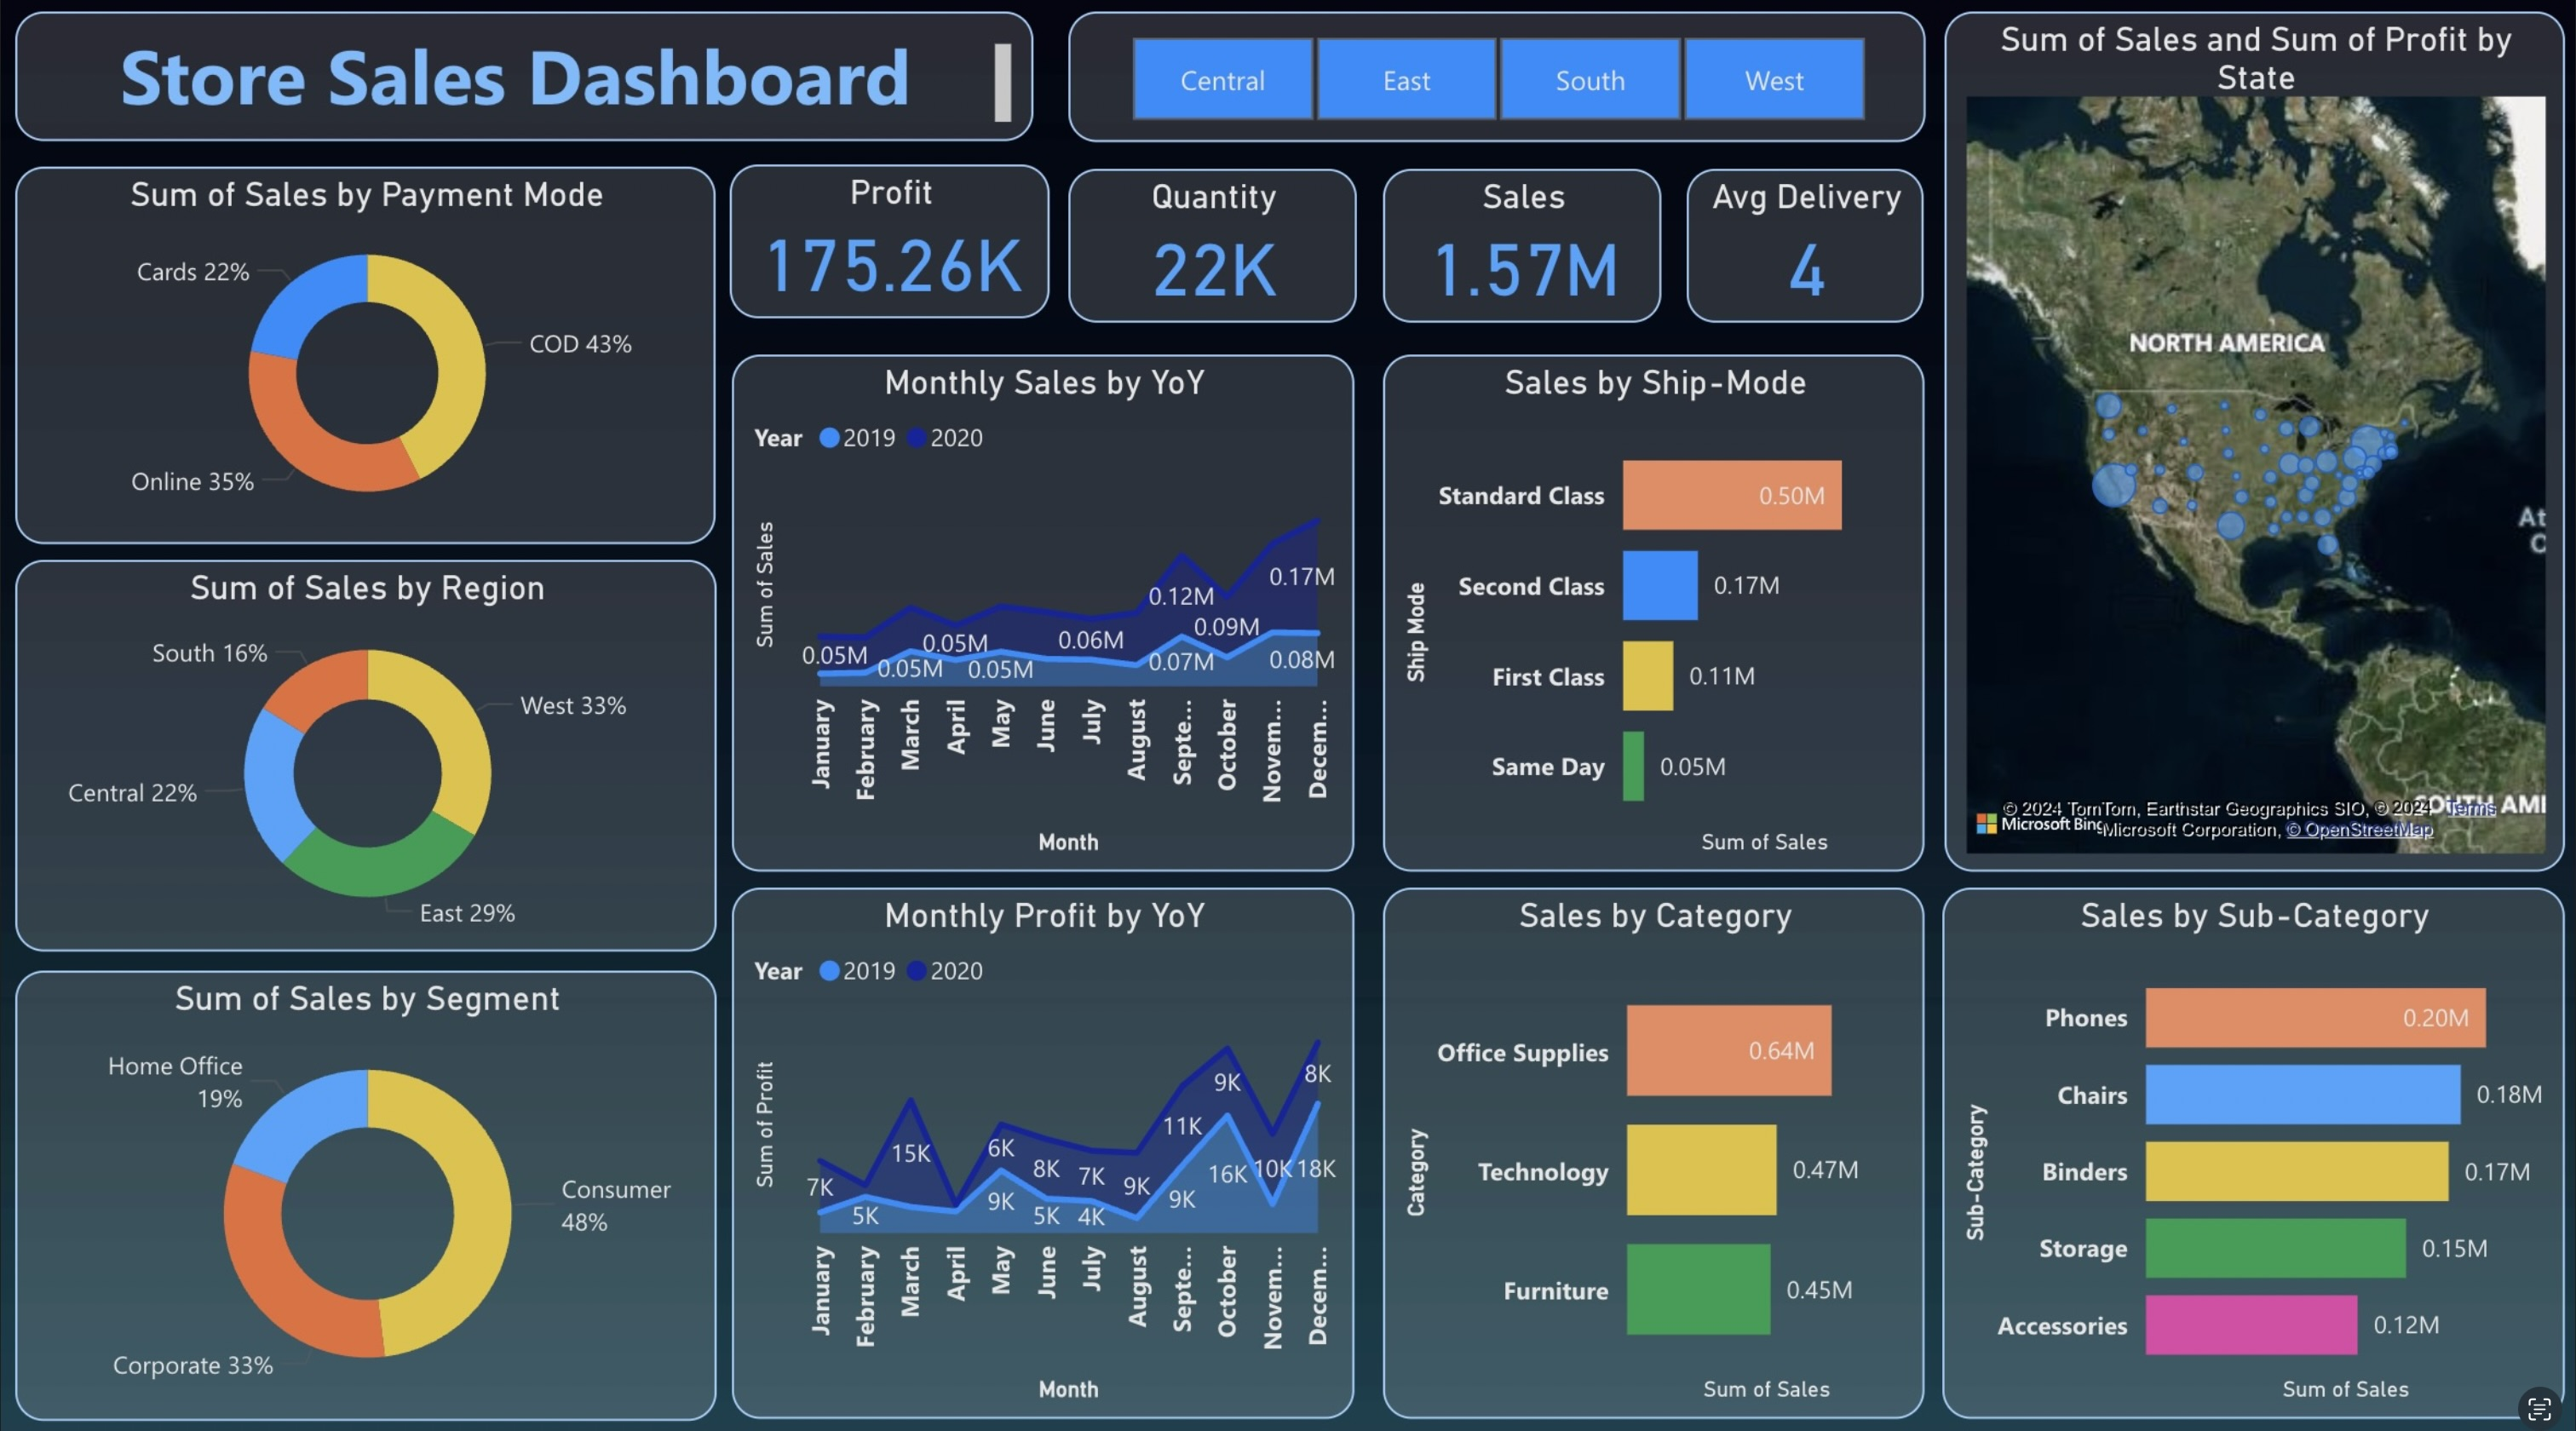

The page's visual inventory and layout, read from the dashboard file:
{"tool":"powerbi","page":{"name":"Page 1","canvas":[1280,720],"ordinal":0},"visuals":[{"type":"clusteredBarChart","title":"Sales by Category","fields":{"Category":["SuperStore_Sales_Dataset.Category"],"Y":["Sum(SuperStore_Sales_Dataset.Sales)"]},"box":[718.8,443.8,235.2,262.9],"z":0},{"type":"clusteredBarChart","title":"Sales by Sub-Category","fields":{"Category":["SuperStore_Sales_Dataset.Sub-Category"],"Y":["Sum(SuperStore_Sales_Dataset.Sales)"]},"box":[963.9,448.4,306.4,258.7],"z":1000},{"type":"clusteredBarChart","title":"Sales by Ship-Mode","fields":{"Category":["SuperStore_Sales_Dataset.Ship Mode"],"Y":["Sum(SuperStore_Sales_Dataset.Sales)"]},"box":[718.8,180.9,235.4,254.8],"z":2000},{"type":"stackedAreaChart","title":"Monthly Sales by YoY","fields":{"Y":["Sum(SuperStore_Sales_Dataset.Sales)"],"Category":["SuperStore_Sales_Dataset.Order Date.Variation.Date Hierarchy.Month","SuperStore_Sales_Dataset.Order Date.Variation.Date Hierarchy.Day"],"Series":["SuperStore_Sales_Dataset.Order Date.Variation.Date Hierarchy.Year"]},"box":[364.7,180.9,344.3,254.8],"z":3000},{"type":"stackedAreaChart","title":"Monthly Profit by YoY","fields":{"Category":["SuperStore_Sales_Dataset.Order Date.Variation.Date Hierarchy.Month","SuperStore_Sales_Dataset.Order Date.Variation.Date Hierarchy.Day"],"Series":["SuperStore_Sales_Dataset.Order Date.Variation.Date Hierarchy.Year"],"Y":["Sum(SuperStore_Sales_Dataset.Profit)"]},"box":[364.7,443.5,344.3,263.6],"z":4000},{"type":"map","fields":{"Category":["SuperStore_Sales_Dataset.State"],"Size":["Sum(SuperStore_Sales_Dataset.Sales)"]},"box":[963.9,10.7,306.4,425],"z":5000},{"type":"donutChart","fields":{"Category":["SuperStore_Sales_Dataset.Segment"],"Y":["Sum(SuperStore_Sales_Dataset.Sales)"]},"box":[10.7,484.4,346.3,222.7],"z":6000},{"type":"donutChart","fields":{"Category":["SuperStore_Sales_Dataset.Payment Mode"],"Y":["Sum(SuperStore_Sales_Dataset.Sales)"]},"box":[10.7,87.5,346.3,186.7],"z":7000},{"type":"slicer","fields":{"Values":["SuperStore_Sales_Dataset.Region"]},"box":[531.1,16.5,400.7,52.5],"z":8000},{"type":"textbox","box":[10.7,10.7,502.9,64.2],"z":9000},{"type":"card","title":"Sales","fields":{"Values":["Sum(SuperStore_Sales_Dataset.Sales)"]},"box":[686.2,88,137.5,76],"z":10000},{"type":"card","title":"Quantity","fields":{"Values":["Sum(SuperStore_Sales_Dataset.Quantity)"]},"box":[530.7,88,142.3,76],"z":11000},{"type":"card","title":"Profit","fields":{"Values":["Sum(SuperStore_Sales_Dataset.Profit)"]},"box":[364.2,86.8,158,76],"z":12000},{"type":"card","title":"Avg Delivery","fields":{"Values":["Avg(SuperStore_Sales_Dataset.AvgDelivery)"]},"box":[837,88,117,76],"z":13000},{"type":"donutChart","fields":{"Category":["SuperStore_Sales_Dataset.Region"],"Y":["Sum(SuperStore_Sales_Dataset.Sales)"]},"box":[10.7,282.1,346.3,193.6],"z":14000}]}

Visuals, with their boxes in screenshot pixels (x1, y1, x2, y2), scaled from the page's 1280x720 canvas onto the 2576x1431 screenshot:
"Sales by Category" clusteredBarChart: box(1446, 882, 1920, 1405)
"Sales by Sub-Category" clusteredBarChart: box(1940, 891, 2556, 1405)
"Sales by Ship-Mode" clusteredBarChart: box(1446, 359, 1920, 866)
"Monthly Sales by YoY" stackedAreaChart: box(734, 359, 1427, 866)
"Monthly Profit by YoY" stackedAreaChart: box(734, 882, 1427, 1405)
map - SuperStore_Sales_Dataset.State x Sum(SuperStore_Sales_Dataset.Sales): box(1940, 21, 2556, 866)
donutChart - SuperStore_Sales_Dataset.Segment x Sum(SuperStore_Sales_Dataset.Sales): box(21, 963, 718, 1405)
donutChart - SuperStore_Sales_Dataset.Payment Mode x Sum(SuperStore_Sales_Dataset.Sales): box(21, 174, 718, 545)
slicer - SuperStore_Sales_Dataset.Region: box(1069, 32, 1875, 137)
textbox: box(21, 21, 1033, 149)
"Sales" card: box(1381, 175, 1658, 326)
"Quantity" card: box(1068, 175, 1354, 326)
"Profit" card: box(733, 173, 1051, 324)
"Avg Delivery" card: box(1684, 175, 1920, 326)
donutChart - SuperStore_Sales_Dataset.Region x Sum(SuperStore_Sales_Dataset.Sales): box(21, 560, 718, 945)
